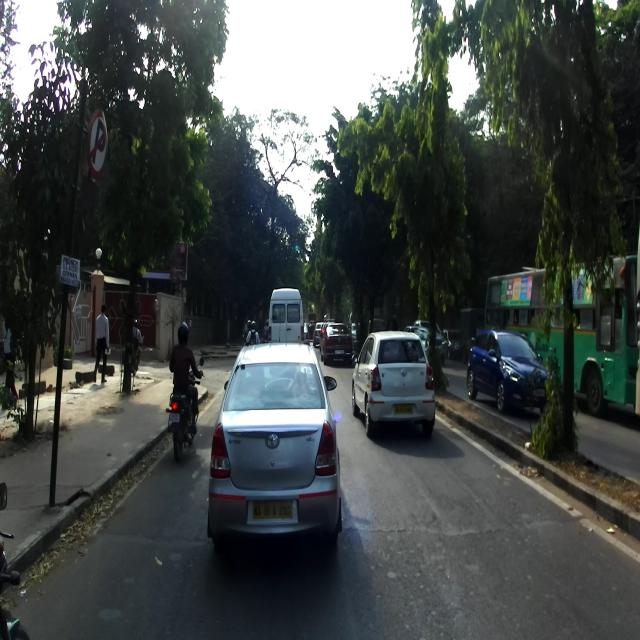Car: (319, 322, 352, 364)
Car_Hyundai: (466, 328, 548, 414)
Car_Toyota: (207, 343, 342, 562), (351, 330, 435, 439)
autorickshaw: (368, 318, 384, 335)
bus: (484, 253, 638, 417), (634, 221, 640, 414)
mini-bus: (268, 287, 304, 342)
motorcycle: (262, 336, 268, 343)
motorcycle_Yamaha: (165, 356, 204, 461)
